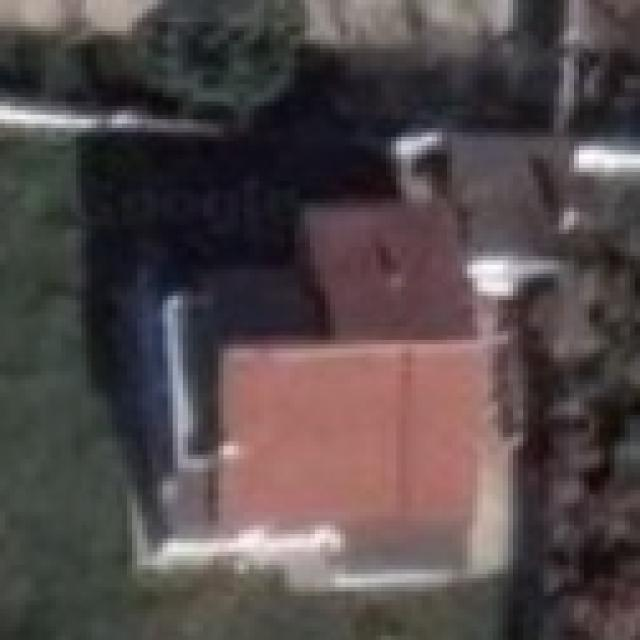Batiment: (219, 202, 508, 572), (447, 134, 558, 296)
